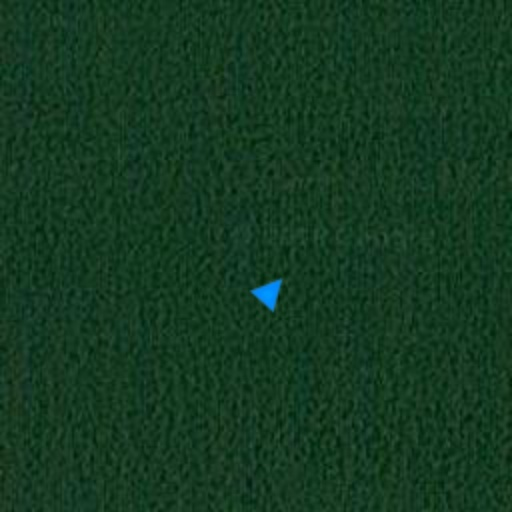triangle: (250, 268, 294, 312)
